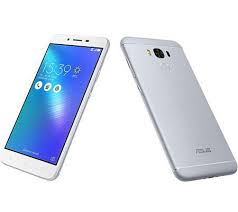asus: (115, 31, 238, 182)
